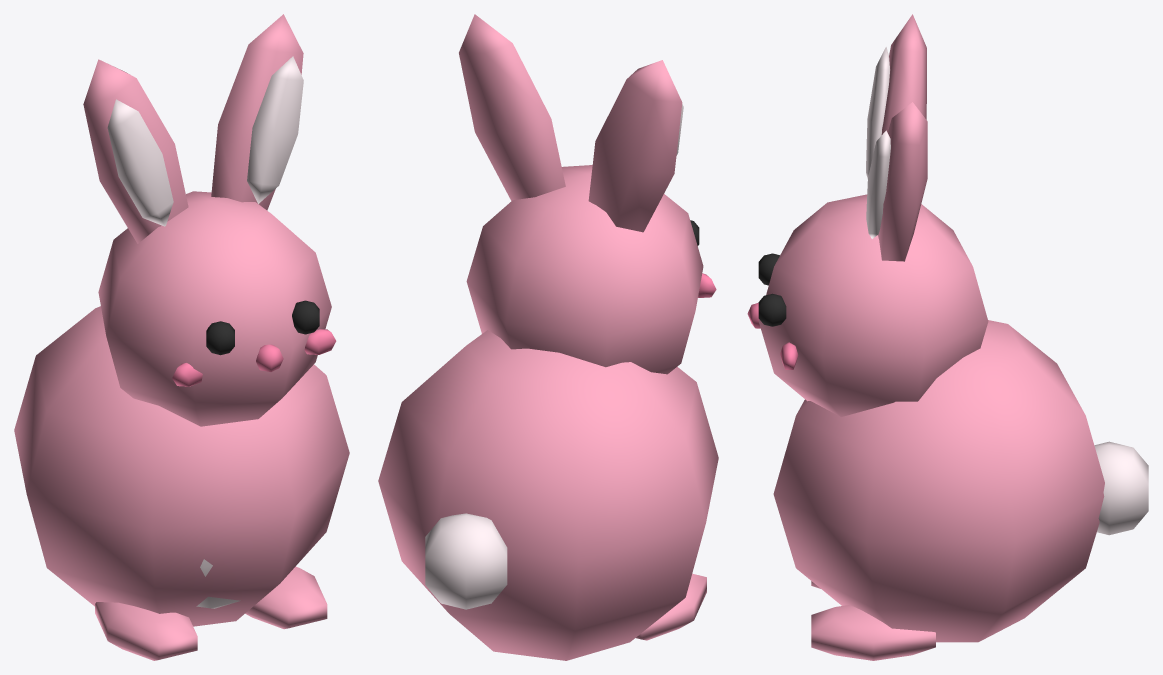
File: goal-rabbit.glb
The picture shows the model from 3 angles, left to right: view 1: azimuth 30°, elevation 25°; view 2: azimuth 150°, elevation 25°; view 3: azimuth 270°, elevation 25°; orthographic projection. The views are drawn at different scales.
Parts seen in each view (by area): view 1: rig, ear_2, ear_0, ear_3, ear_1; view 2: rig, ear_2, ear_0; view 3: rig, ear_2, ear_0, ear_3, ear_1.
Part boxes in pixels (<box>): rig: <box>14,191,349,660</box>; ear_2: <box>211,14,303,210</box>; ear_0: <box>83,59,188,243</box>; ear_3: <box>247,56,303,204</box>; ear_1: <box>107,99,173,226</box>; rig: <box>378,165,718,660</box>; ear_2: <box>459,14,565,200</box>; ear_0: <box>588,60,682,232</box>; rig: <box>747,194,1148,660</box>; ear_2: <box>878,102,927,261</box>; ear_0: <box>881,14,926,134</box>; ear_3: <box>866,130,890,238</box>; ear_1: <box>866,47,889,179</box>.
Size of the model in its own units: 0.5247 by 1.04 by 0.6576.
